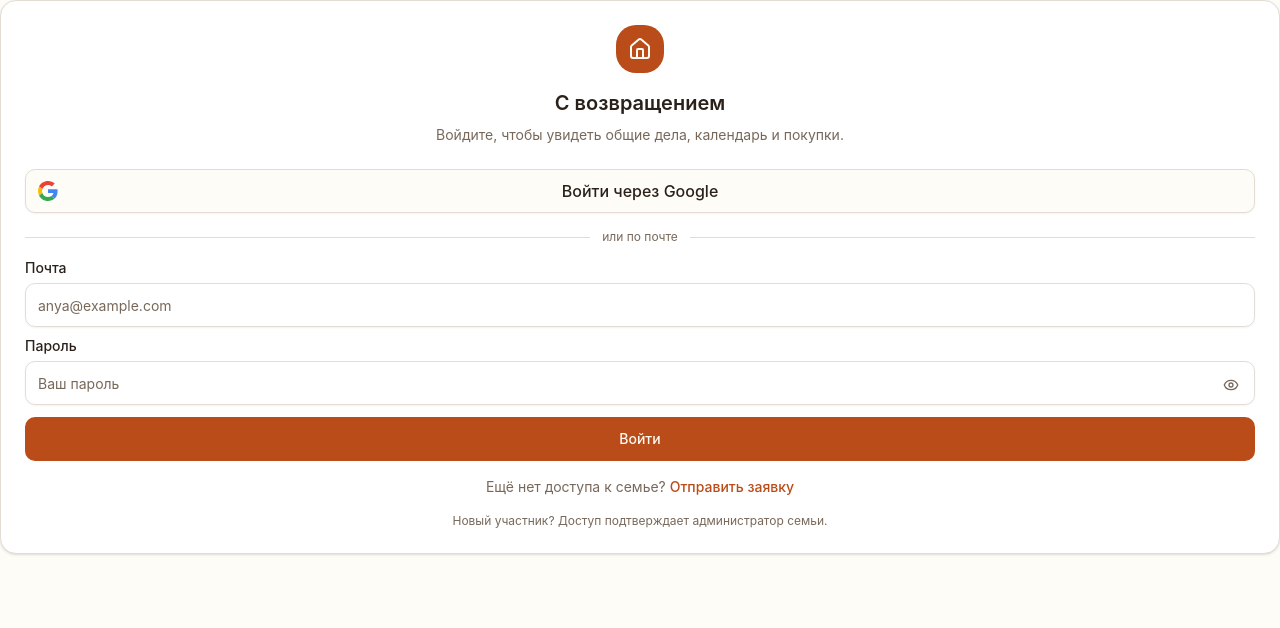
it: LoginPage — email + password › validates before sending anything to the server
Click the button "Войти".
click(640, 439)  # box [25, 417, 1255, 461]
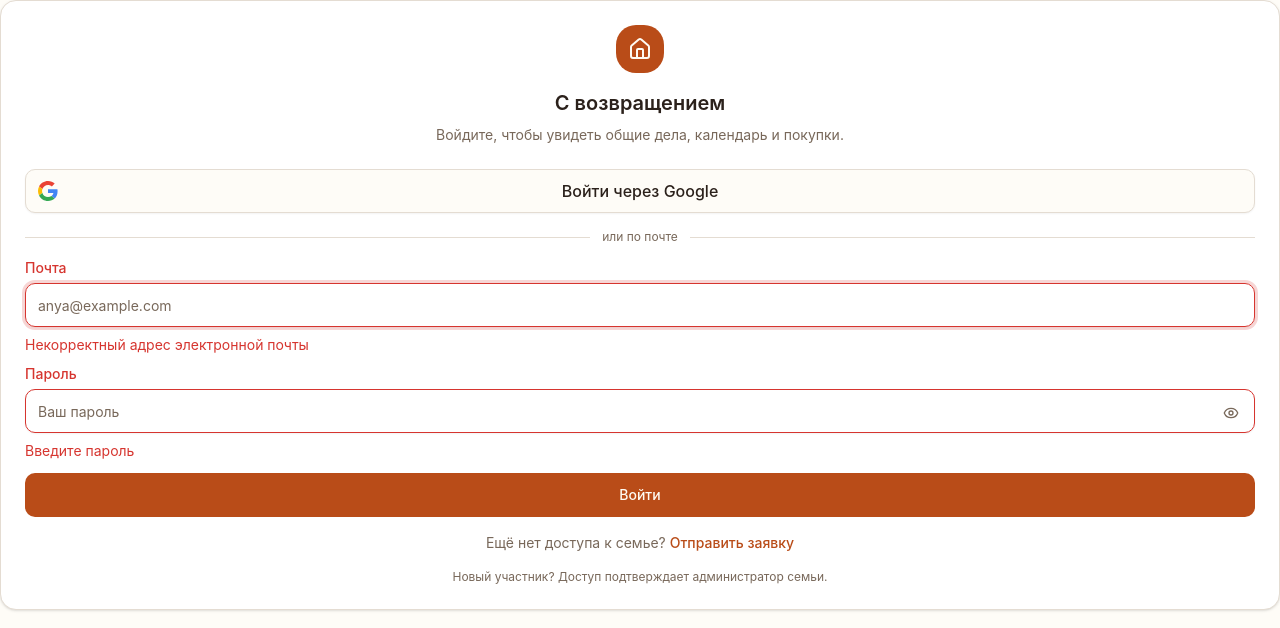
Expected: the text "Некорректный адрес электронной почты" is shown, [25, 336, 309, 353]
Expected: the text "Введите пароль" is shown, [25, 442, 134, 459]
